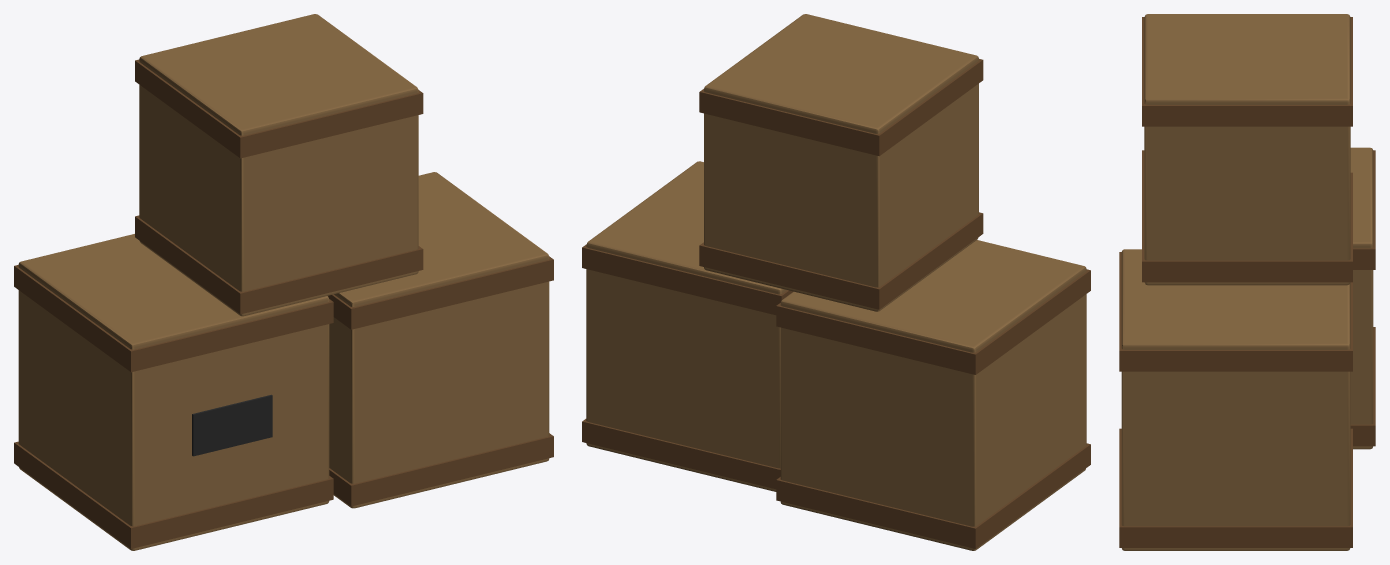
The model's file is crate-stack.glb.
3 views of the same model, side by side, from view 1: azimuth 30°, elevation 25°; view 2: azimuth 150°, elevation 25°; view 3: azimuth 270°, elevation 25° (orthographic).
Parts seen in each view (by area): view 1: part-crate, part-crate-dark, part-stencil; view 2: part-crate, part-crate-dark; view 3: part-crate, part-crate-dark.
Boxes of the visible parts, left/top/right/bottom form: part-crate: left=18, top=14, right=549, bottom=550; part-crate-dark: left=14, top=59, right=553, bottom=548; part-stencil: left=192, top=394, right=272, bottom=456; part-crate: left=586, top=14, right=1086, bottom=550; part-crate-dark: left=582, top=59, right=1090, bottom=548; part-crate: left=1121, top=14, right=1373, bottom=550; part-crate-dark: left=1119, top=17, right=1375, bottom=547.
Bounding box in the file's own units: 41.4 × 38 × 22.4.
